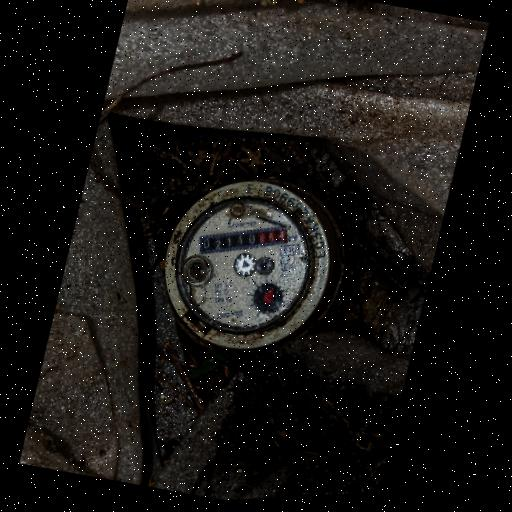0: (245, 229, 260, 247), (199, 235, 213, 252), (256, 229, 269, 245)
1: (234, 231, 248, 248), (276, 226, 288, 245), (223, 233, 236, 250)
2: (211, 235, 226, 252)
5: (266, 227, 279, 244)
border_water_meter_number: (192, 206, 293, 276)
